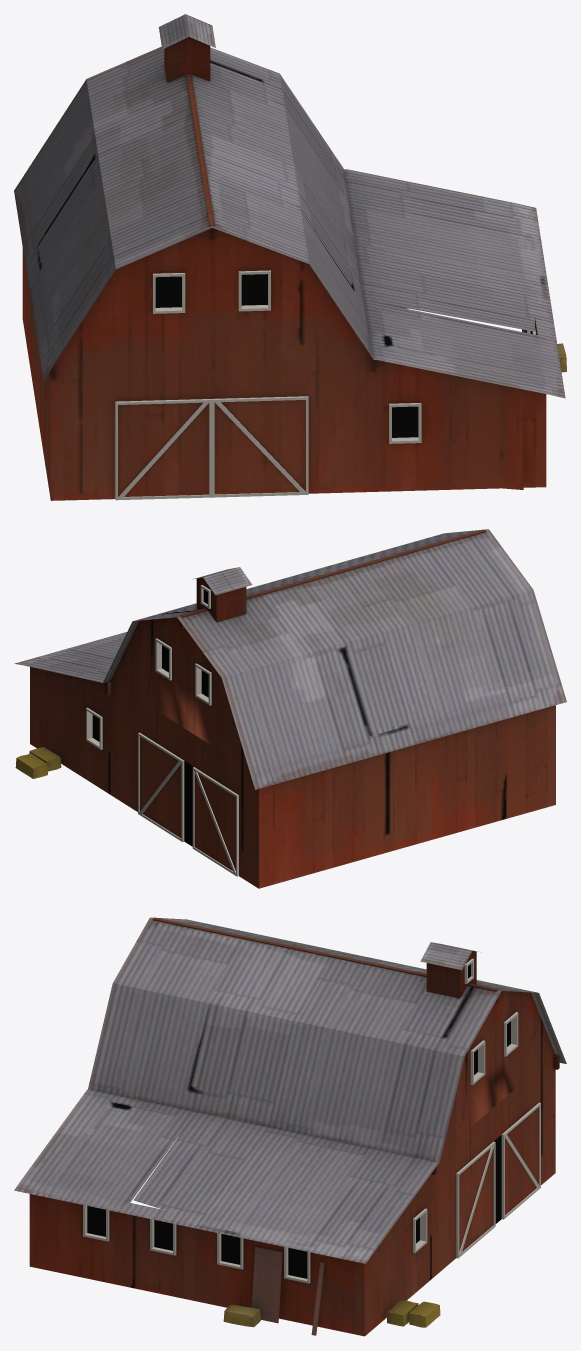
The model's file is farm_barn.dae.
3 renders of one model, top to bottom at view 1: azimuth 30°, elevation 25°; view 2: azimuth 150°, elevation 25°; view 3: azimuth 270°, elevation 25°, orthographic. The views are drawn at different scales.
Parts seen in each view (by area): view 1: farm_barn; view 2: farm_barn; view 3: farm_barn.
Boxes of the visible parts, x1=… form: farm_barn: x1=14, y1=14, x2=566, y2=500; farm_barn: x1=14, y1=529, x2=566, y2=888; farm_barn: x1=14, y1=917, x2=566, y2=1336.
Bounding box in the file's own units: 26.66 × 25.37 × 13.72.
1 material, 1 textured.
